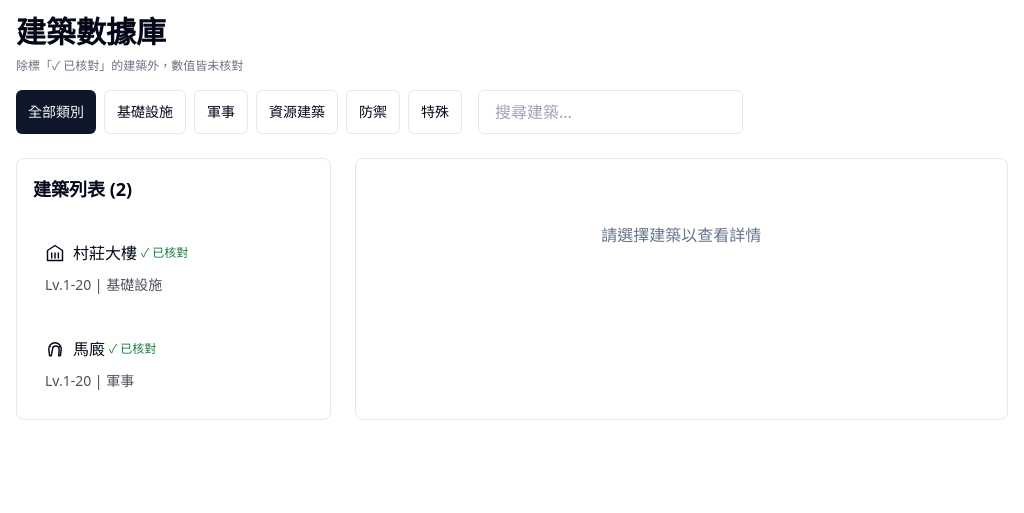
Test: BuildingsPage ✓ source notes (real data, P0-23) › stable ✓ opens 「1 級取自 ts11 遊戲內說明，2 級以上取自官方知識庫。」 and does not select the building
Click the button with test id "verified-mark" at [133, 349], box [109,327,156,371]
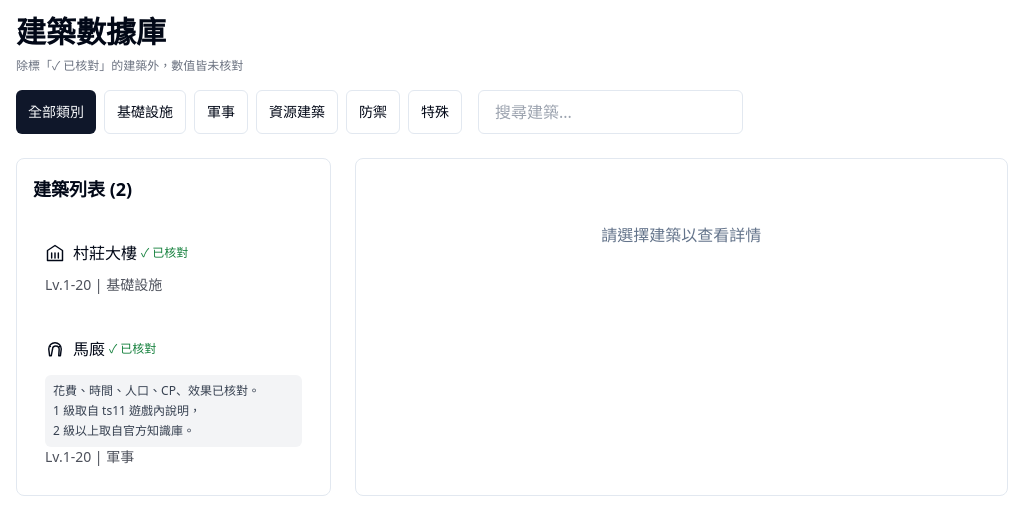
Expected: the element with test id "pending-note-source" reads "1 級取自 ts11 遊戲內說明， 2 級以上取自官方知識庫。", [53,402,201,439]
